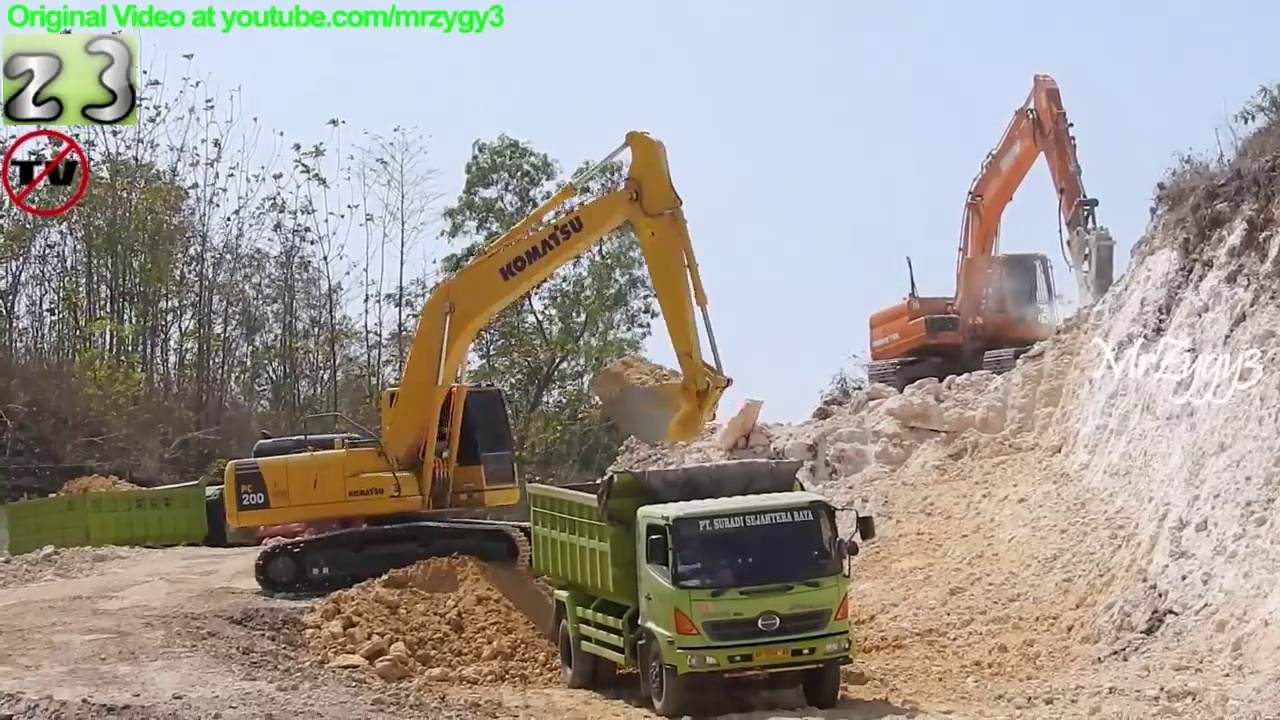excavator: (220, 124, 736, 599)
excavator breaker: (862, 71, 1124, 405)
truck: (524, 451, 885, 720), (1, 457, 261, 585)
